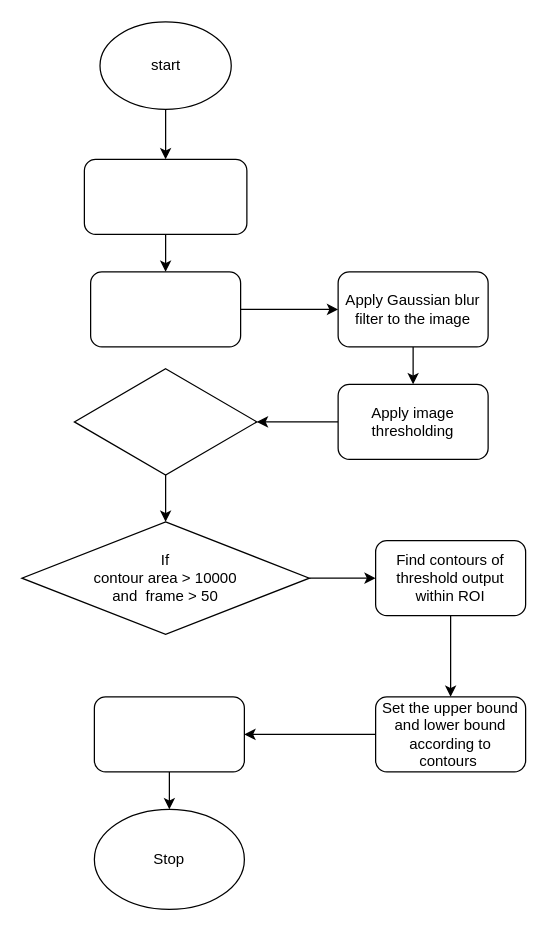
Some shapes in this 548 by 931 pixel diagram are drawn without their labels. The shapes that lost their labels are listed below. From the top down, each one's centre as x and y in pixels, then its label:
(165,196): Read image from in RGB
(165,309): Convert the RGB image to HSV
(165,421): If contours > 0
(168,734): Save the image
